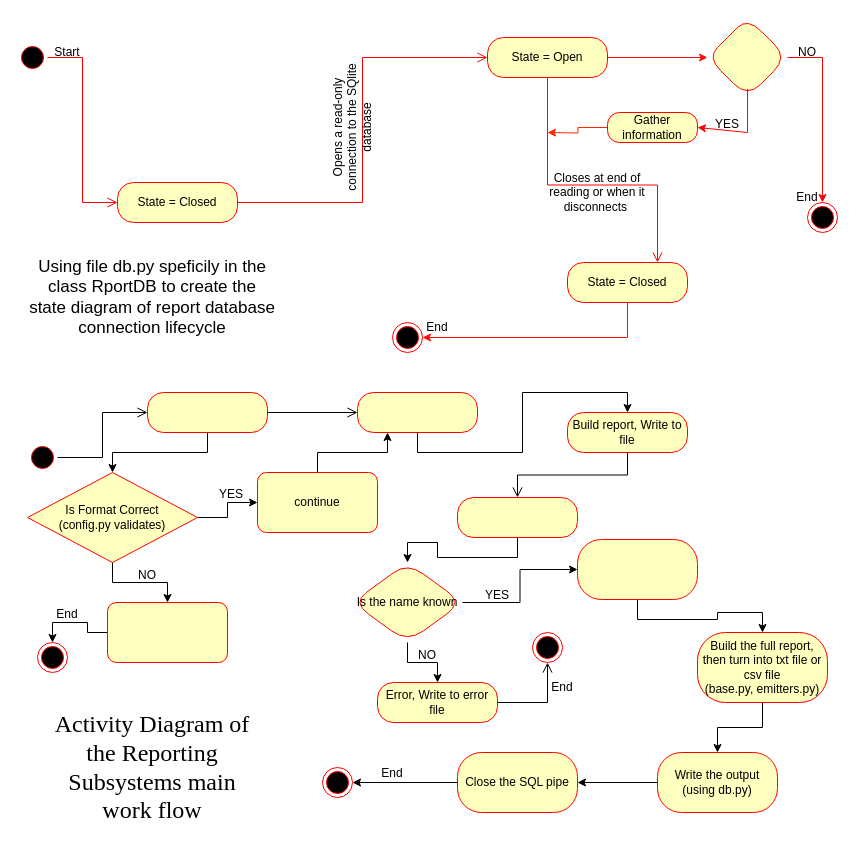
The diagram is 855 pixels wide and 860 high, and some of its shapes have lost their labels. Here are the shapes that lost their labels. From the top down, the centre of each, then its label:
At point (747, 57): "Success?".
At point (207, 412): "Parse Arguments (using file cli.py)".
At point (417, 412): "Open the SQL pipe as read only".
At point (517, 517): "Get report name".
At point (637, 569): "Resolve the report class (using registry.py)".
At point (167, 632): "Write error to error file, dont open SQL pipe".
